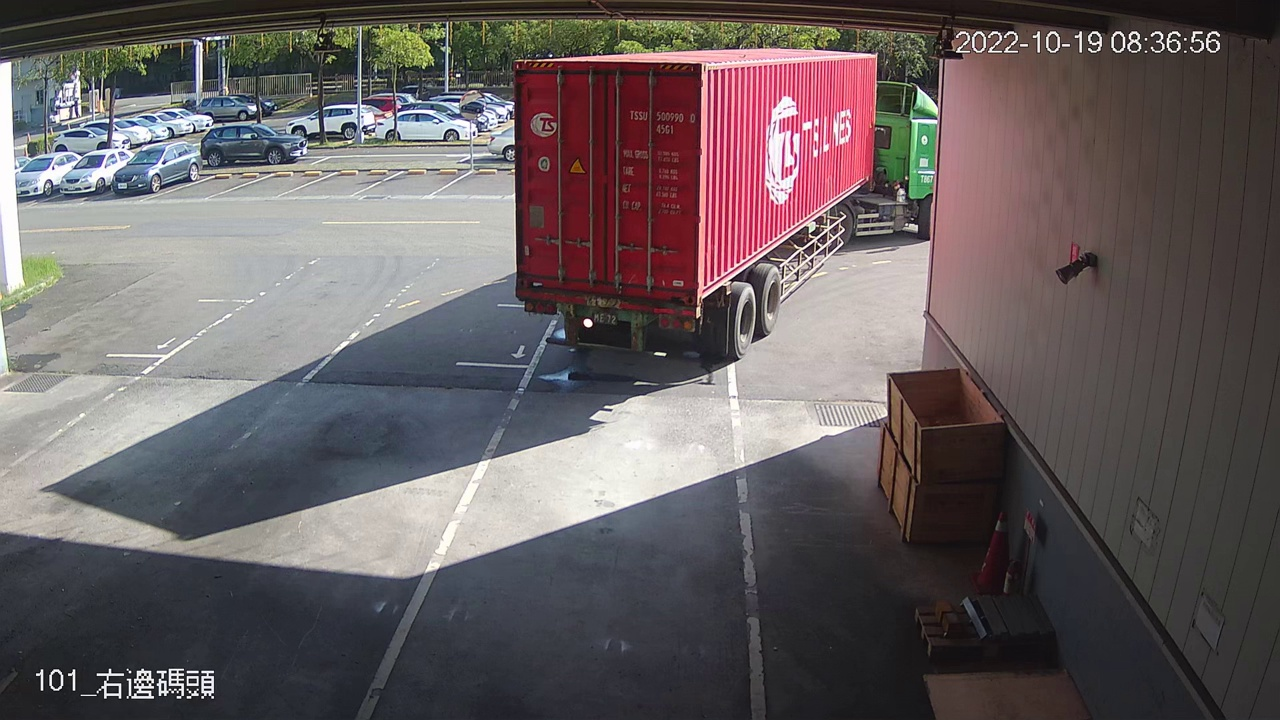container: (625, 106, 698, 138)
